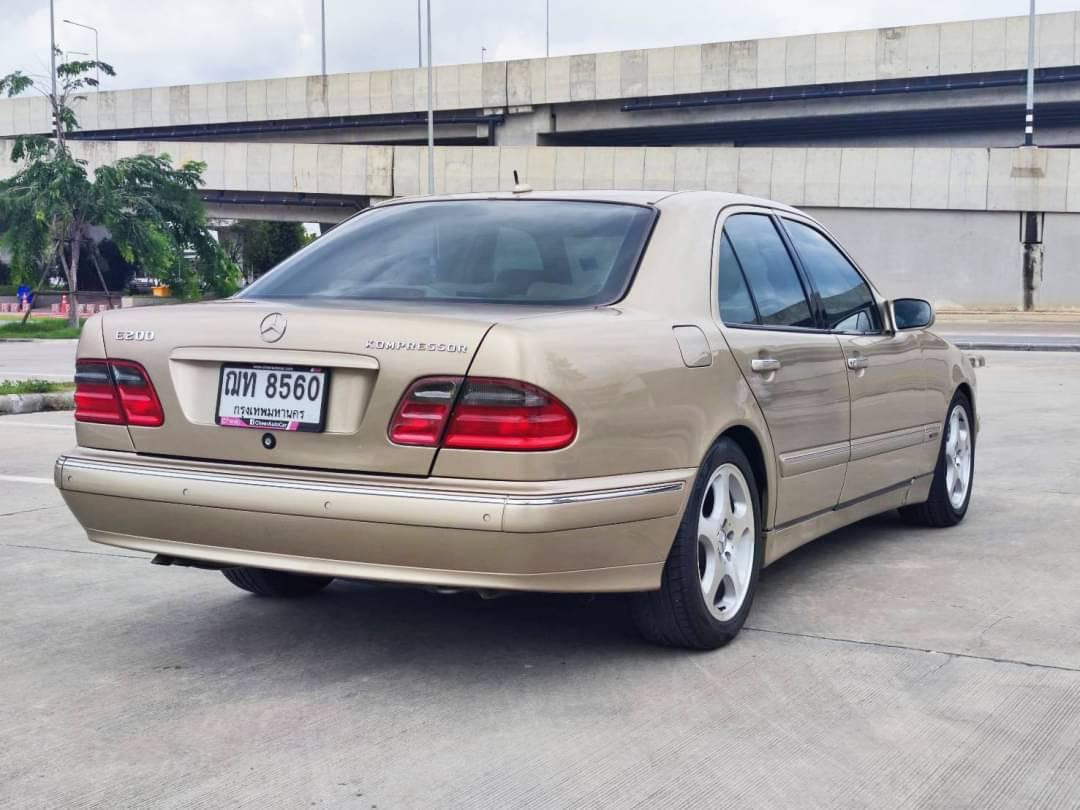license-plate: (215, 360, 337, 434)
